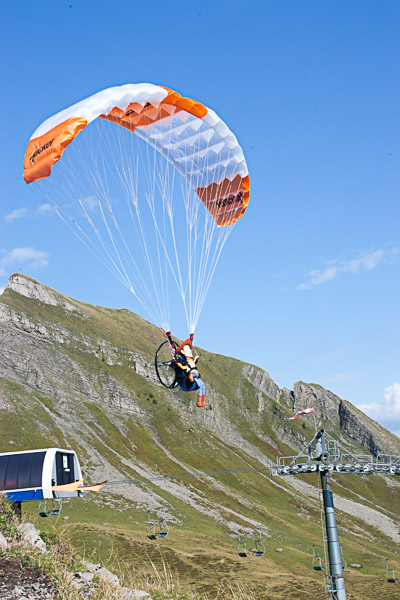Paraglider: (17, 74, 257, 229)
